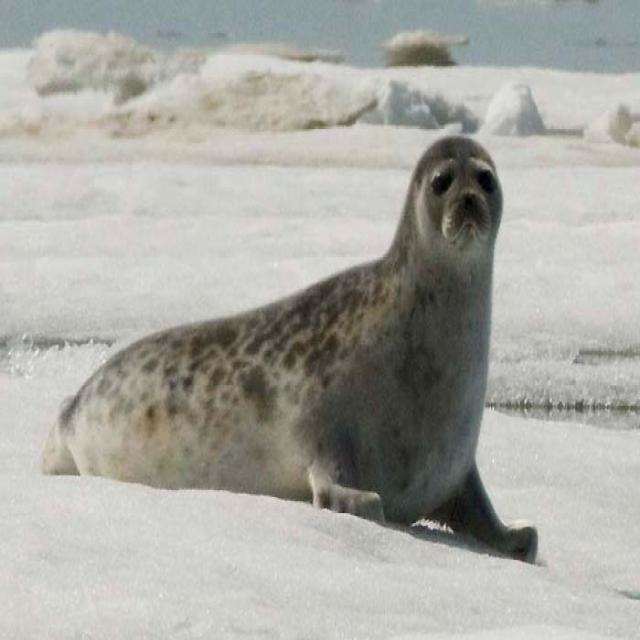WaterDog: (42, 131, 538, 568)
